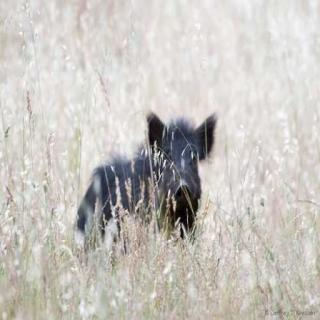Pig: (55, 108, 223, 264)
